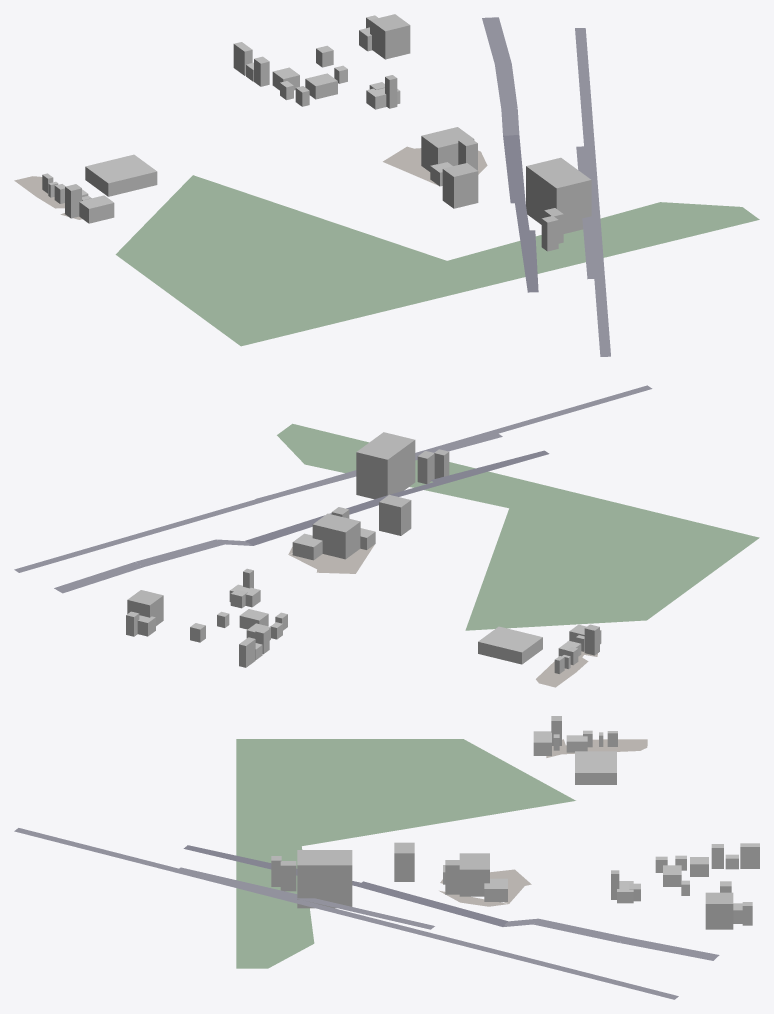
File: 132_82_mid.glb
The picture shows the model from 3 angles, top to bottom: view 1: azimuth 30°, elevation 25°; view 2: azimuth 150°, elevation 25°; view 3: azimuth 270°, elevation 25°; orthographic projection. The views are drawn at different scales.
Bounding box in the file's own units: 565 × 46 × 687.
